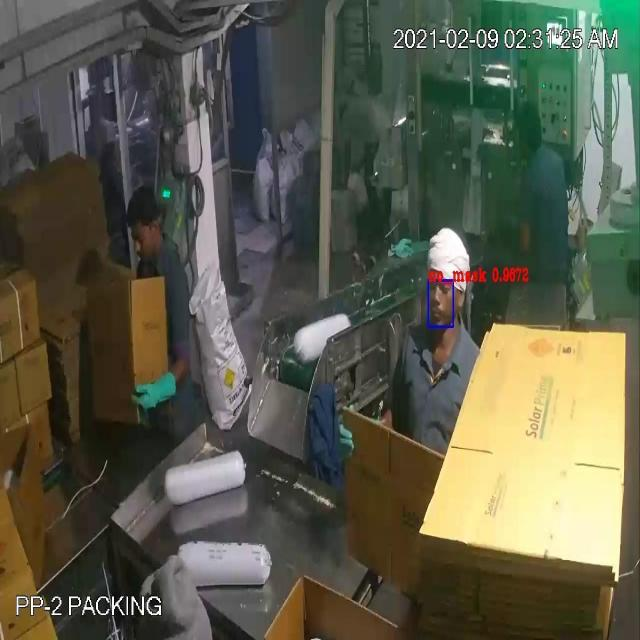Gloves: (119, 354, 190, 418)
